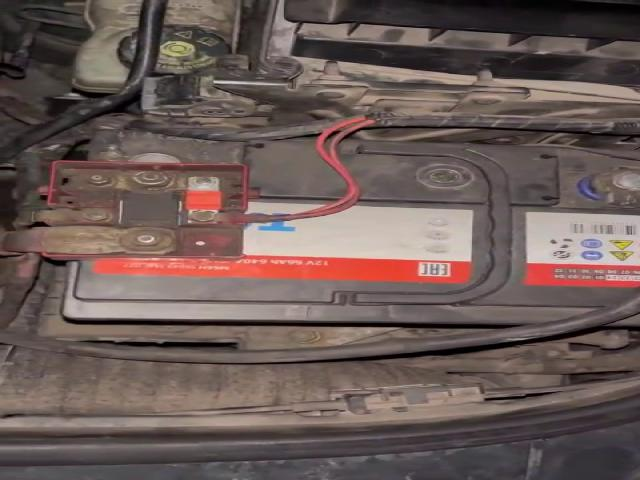accumulator: (4, 119, 639, 326)
